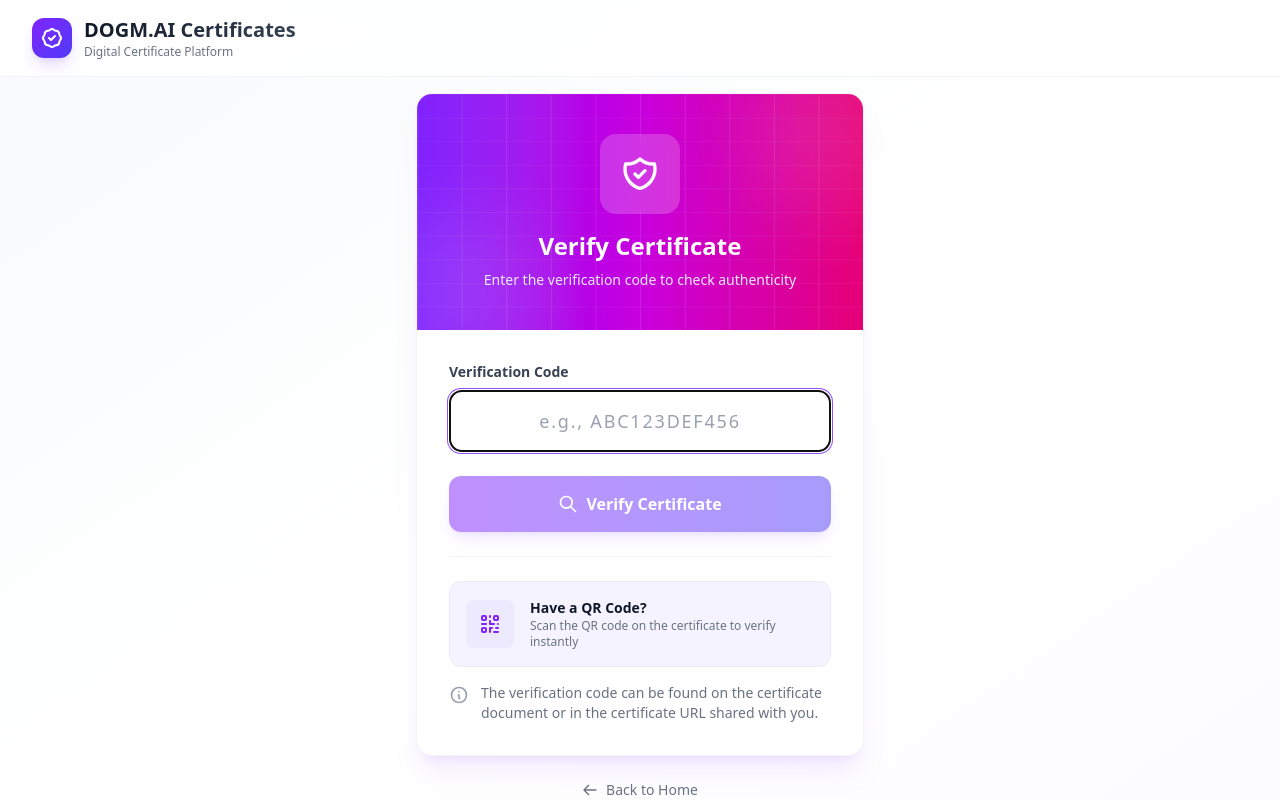
it: VerifyPage › enables submit button when input has value
The width and height of the screenshot is (1280, 800).
In the field with placeholder "e.g., ABC123DEF456": (640, 421) top-left (449, 390), bottom-right (831, 452), type "TEST"
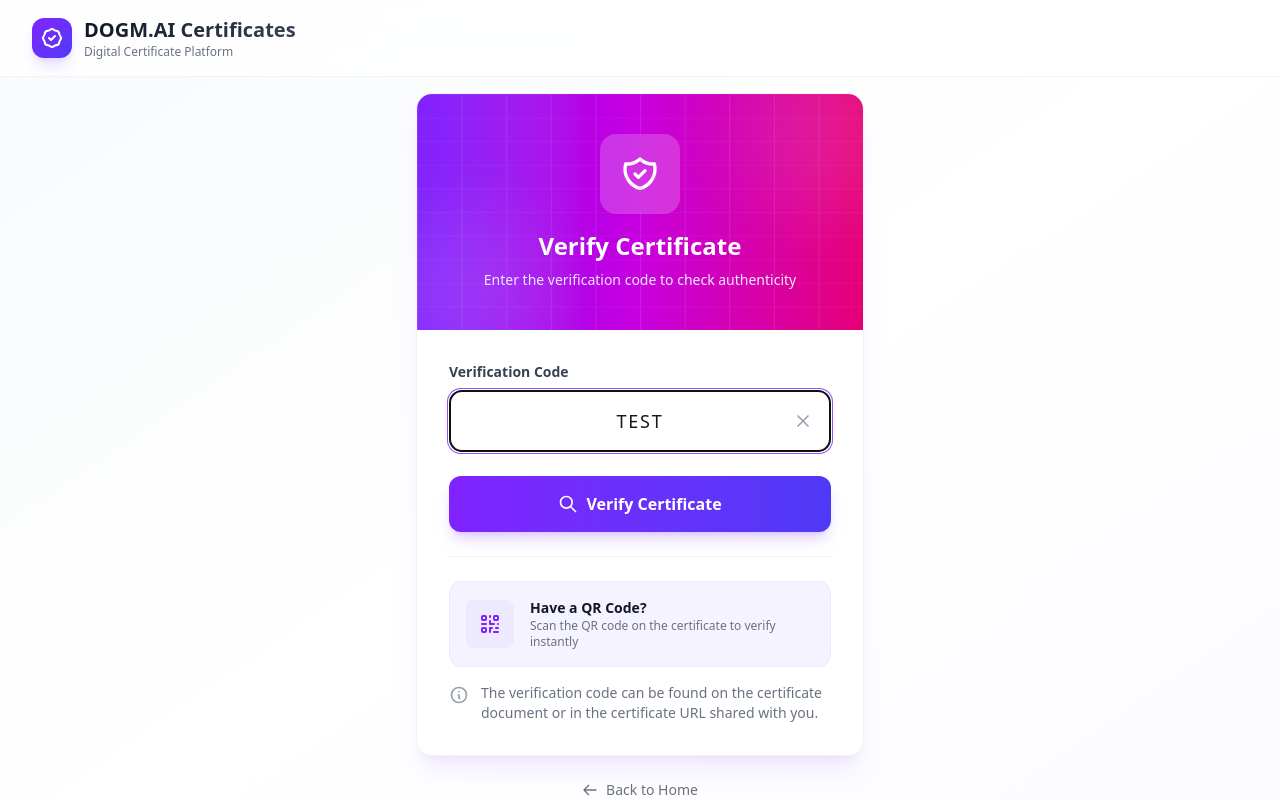
Check: the button "Verify Certificate" is enabled, box top-left (449, 476), bottom-right (831, 532)
